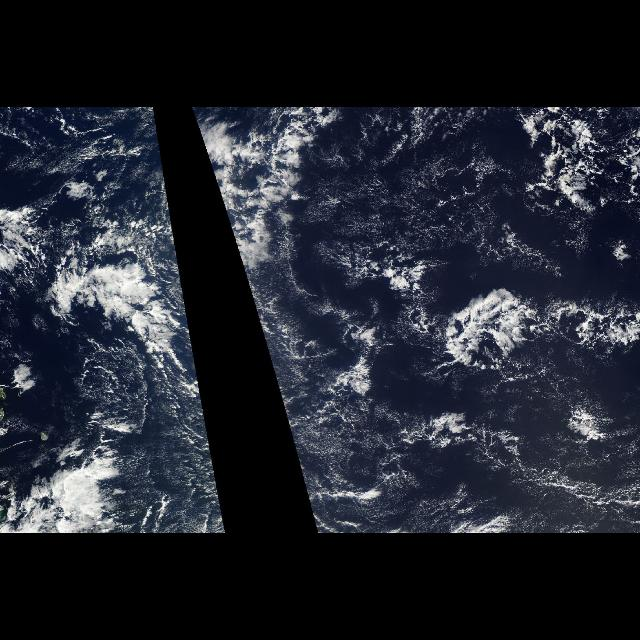Fish: (273, 245, 639, 528)
Gravel: (279, 124, 639, 272)
Sugar: (325, 124, 537, 260), (285, 416, 369, 490), (148, 416, 218, 490)
